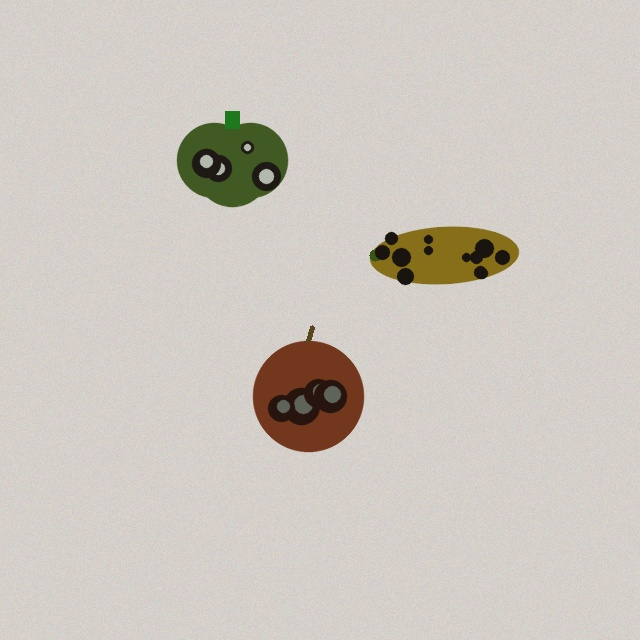Rotten apple: (253, 327, 363, 451)
Rotten banana: (367, 220, 521, 290)
Rotten bell pepper: (177, 111, 287, 206)
